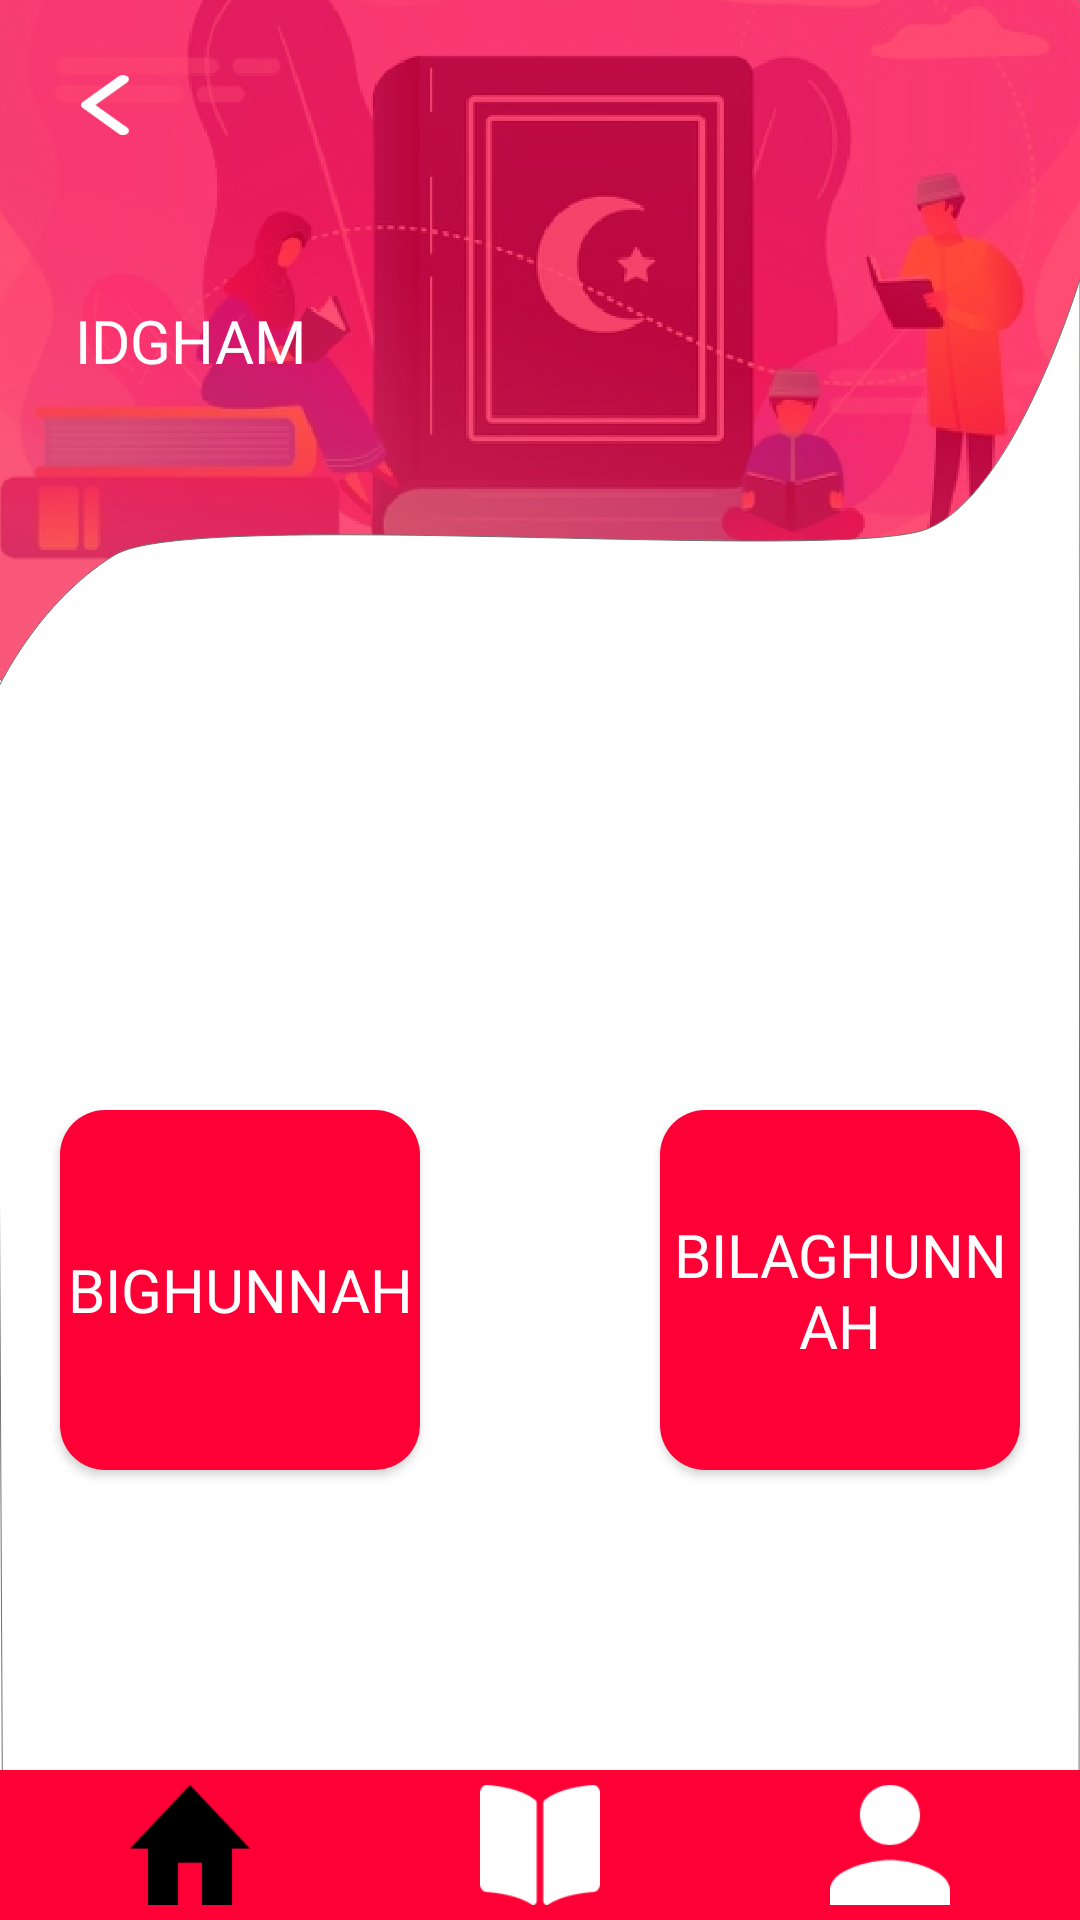

Screen size 1080*1920. Icon name, then its box in pixels as box(x1, y1, x2, y2):
akun: box(830, 1785, 950, 1905)
back: box(81, 75, 129, 135)
home: box(130, 1785, 250, 1905)
kuis: box(480, 1785, 600, 1905)
